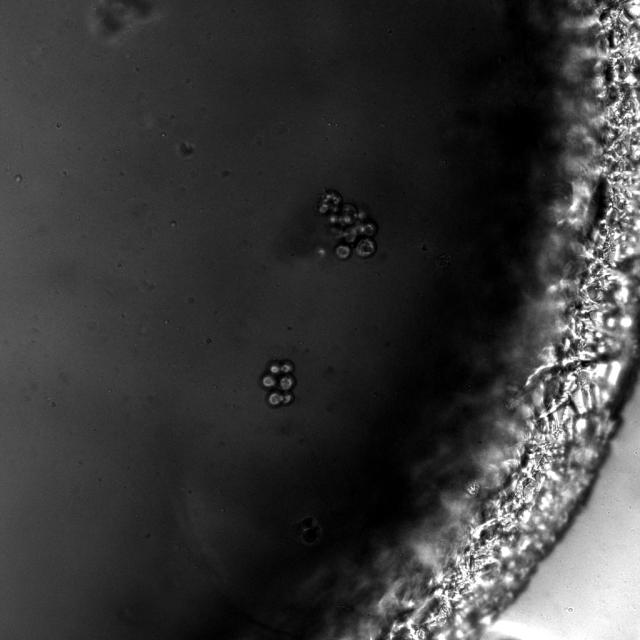organoid: (314, 189, 378, 260), (259, 359, 296, 407)
